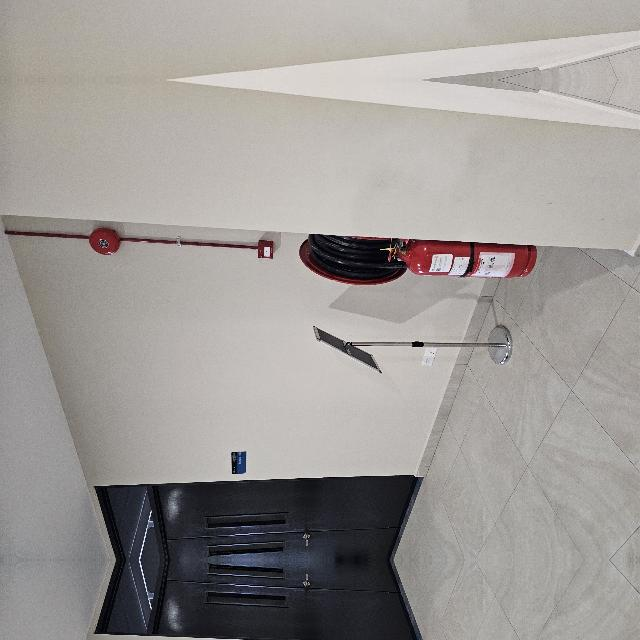door: (0, 221, 86, 504), (0, 616, 86, 640)
obstacle: (270, 376, 328, 612), (186, 390, 244, 598), (270, 507, 327, 640), (186, 522, 244, 640)
